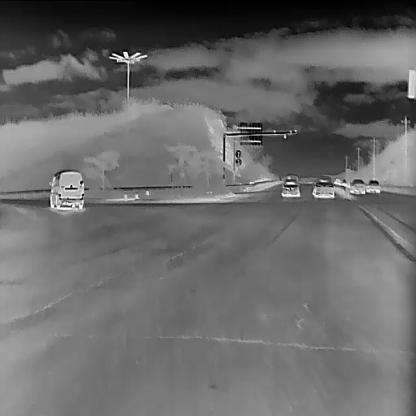car: (48, 168, 82, 210), (312, 175, 334, 198), (281, 173, 298, 196), (348, 178, 364, 194), (365, 179, 380, 193)
